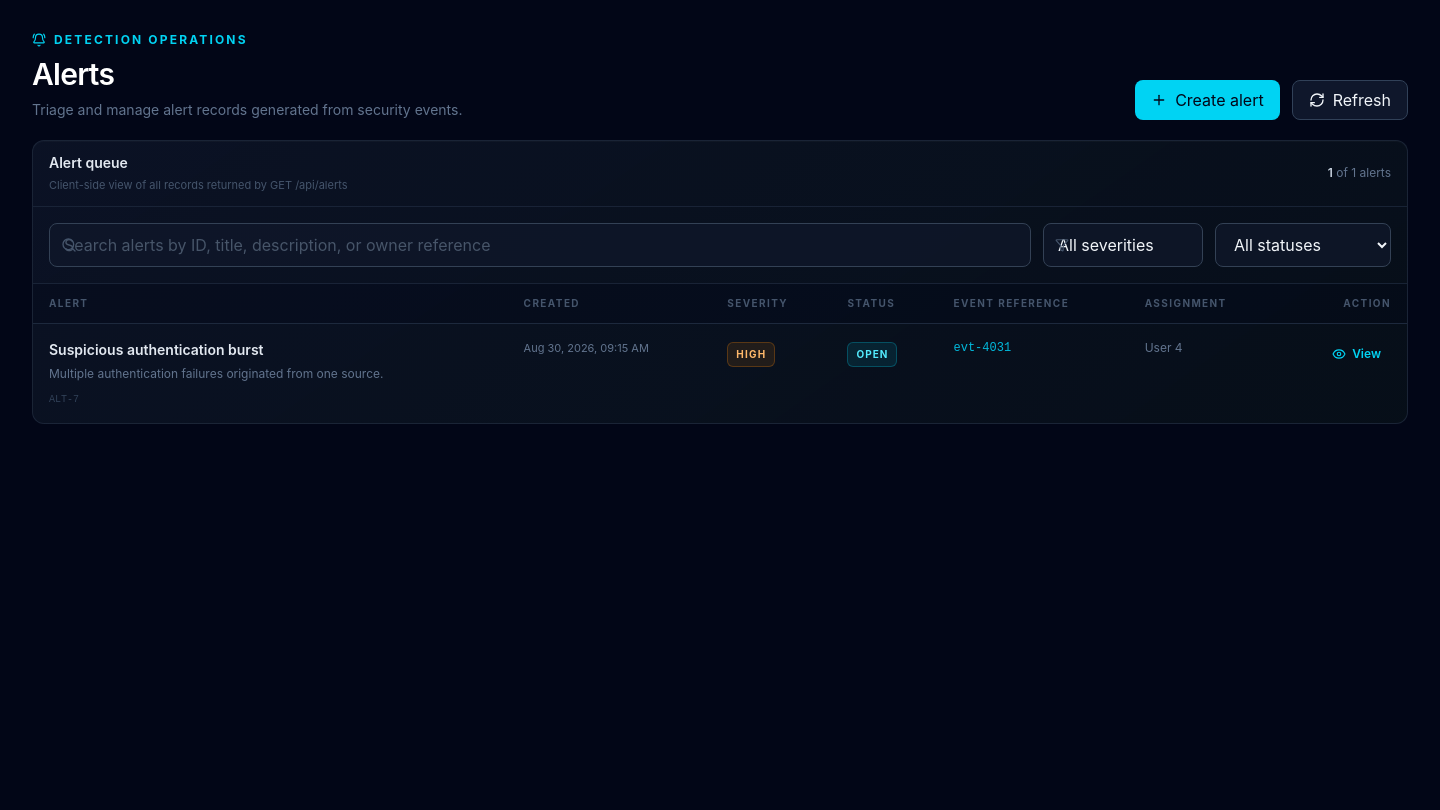
Test case: AlertsPage › opens detail data from the alert detail endpoint
Step 1. Click the button with aria-label "Open alert 7" → (156, 349), box [33, 323, 1407, 422]
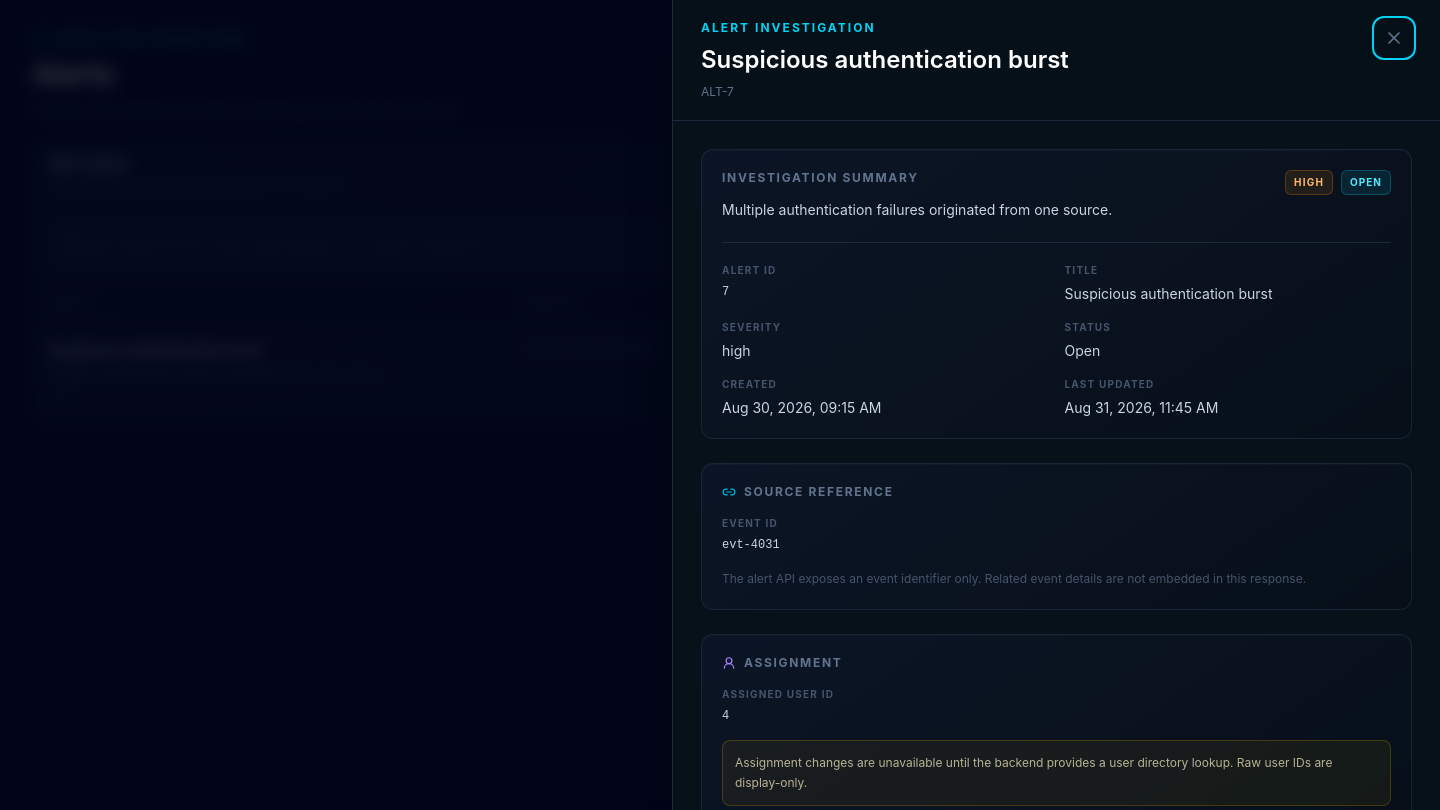
Result: the dialog "Suspicious authentication burst" shows "ALT-7" at [701, 84, 734, 99]
Result: the dialog "Suspicious authentication burst" shows "evt-4031" at [722, 538, 780, 552]
Result: the dialog "Suspicious authentication burst" shows "Multiple authentication failures" at [722, 201, 1112, 218]
